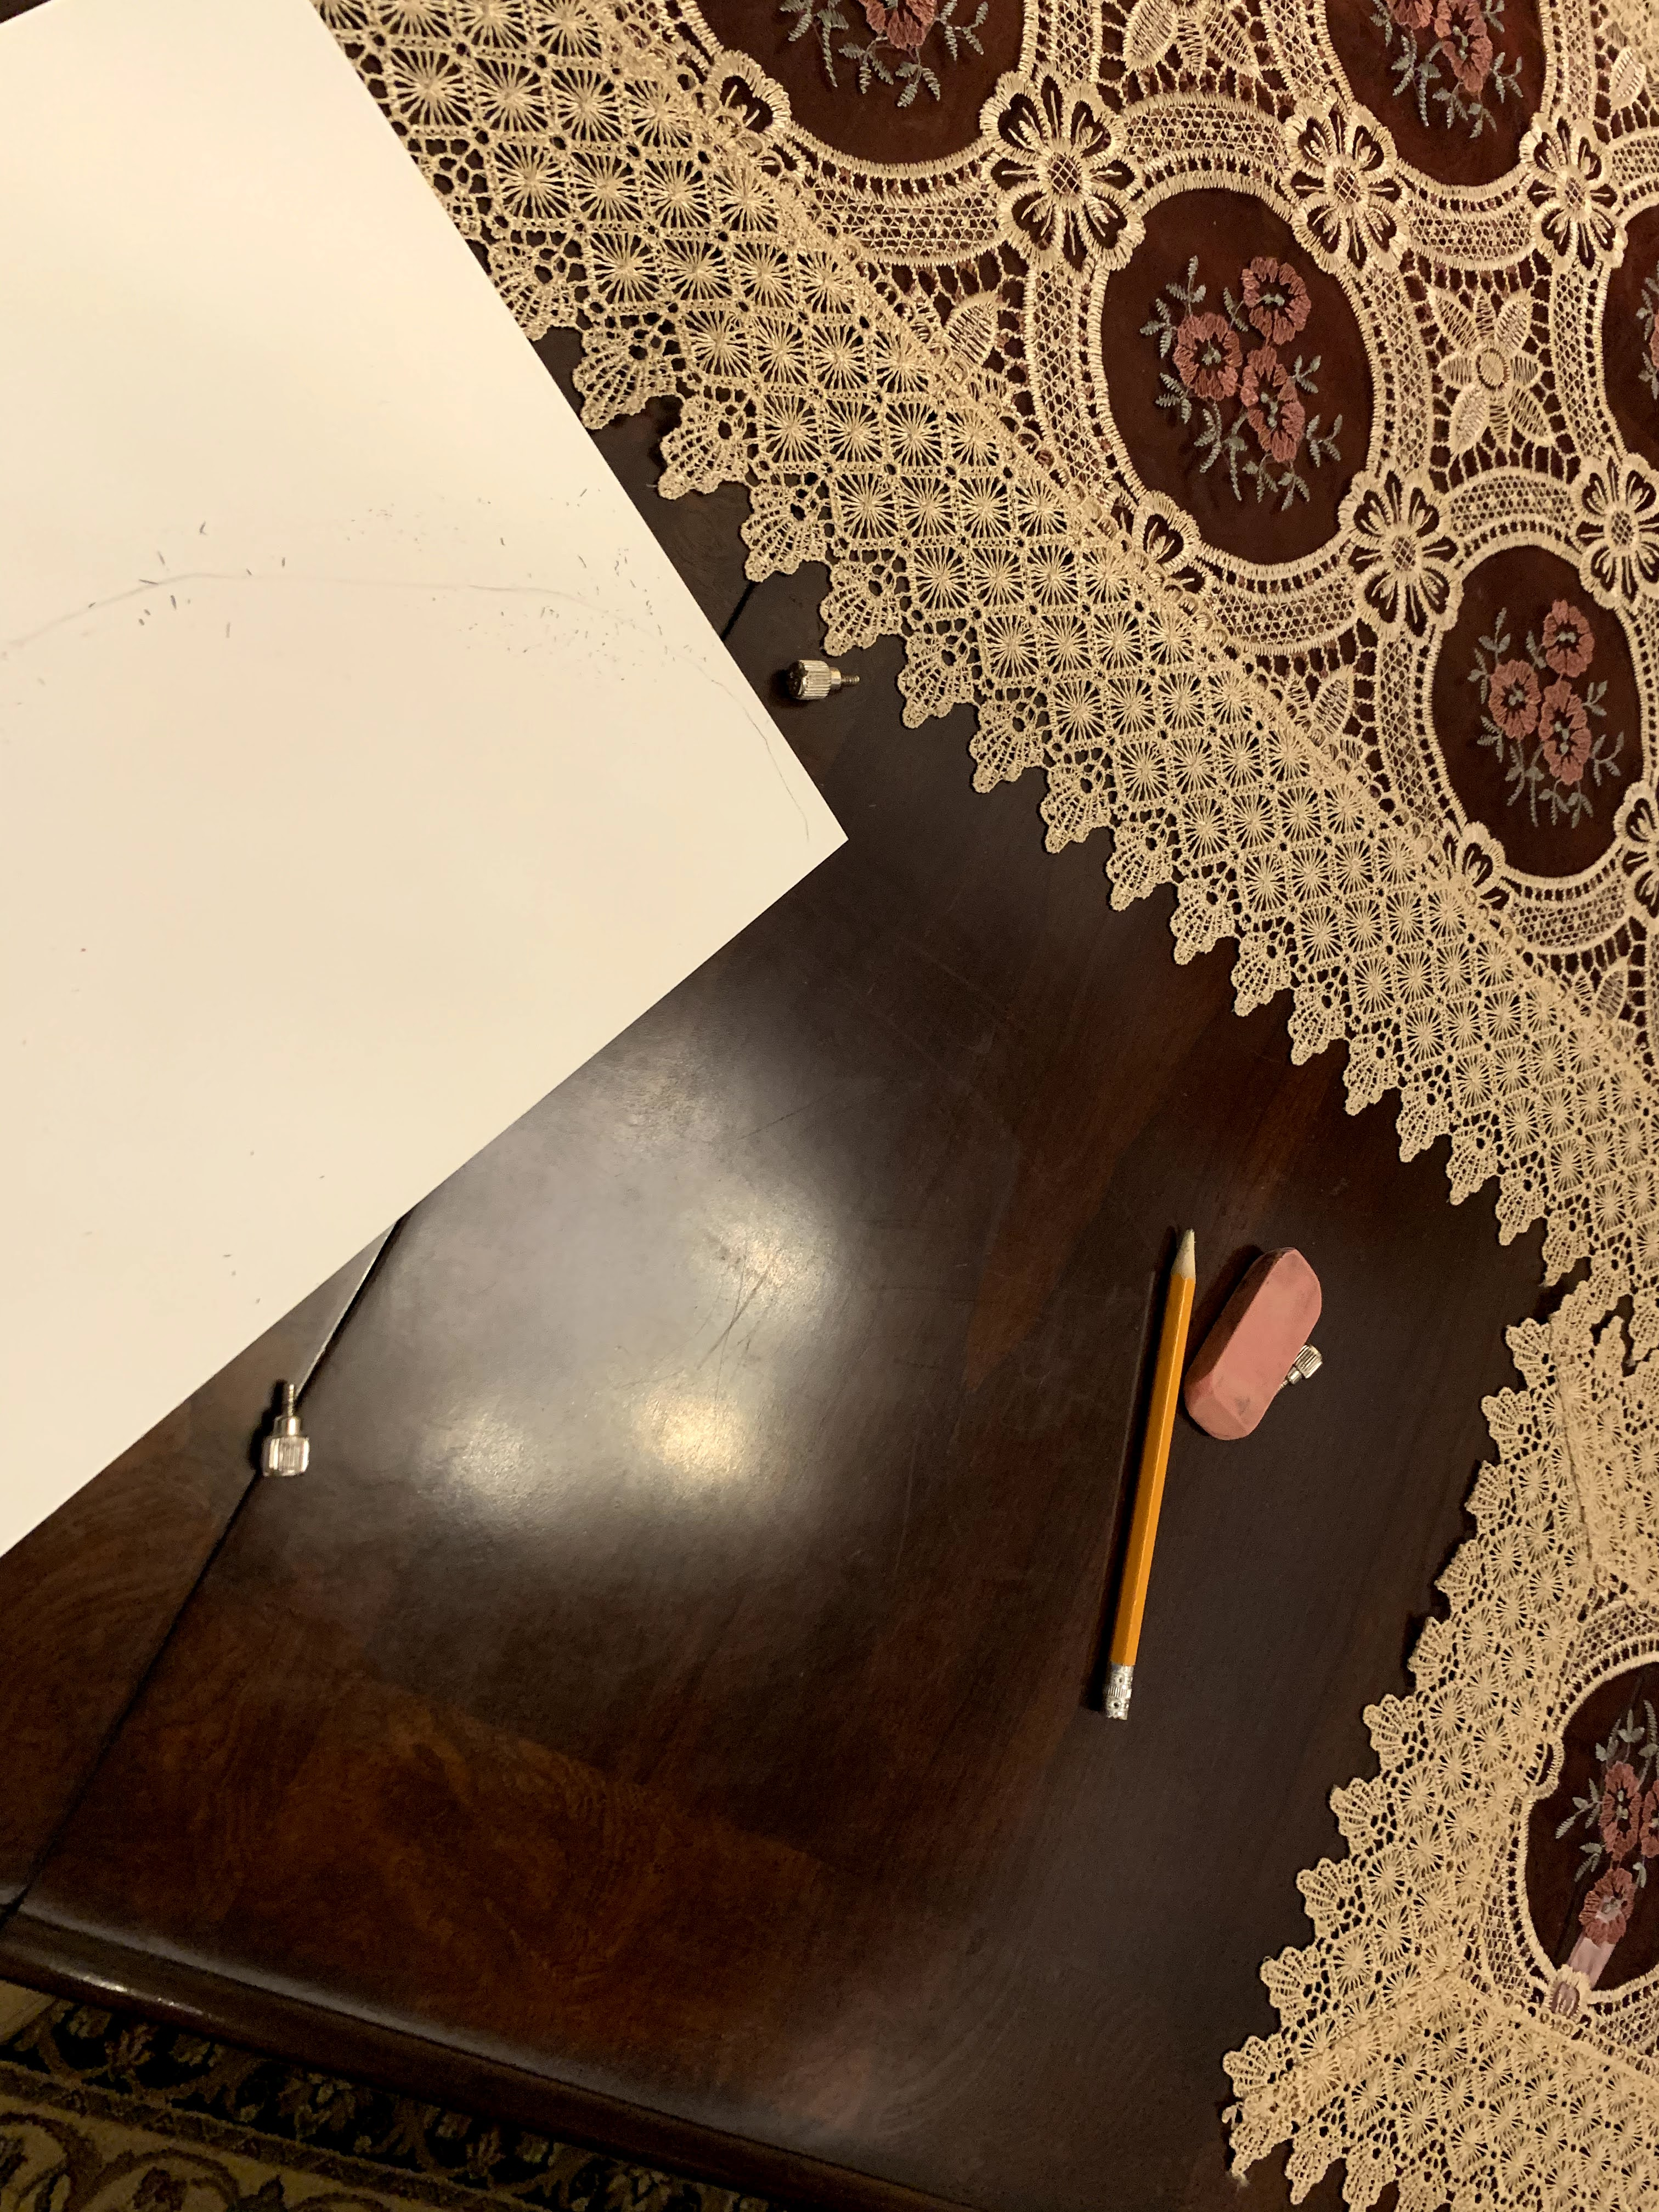Space-debris-small: (251, 1376, 326, 1486), (781, 655, 864, 704), (1276, 1339, 1324, 1395)
